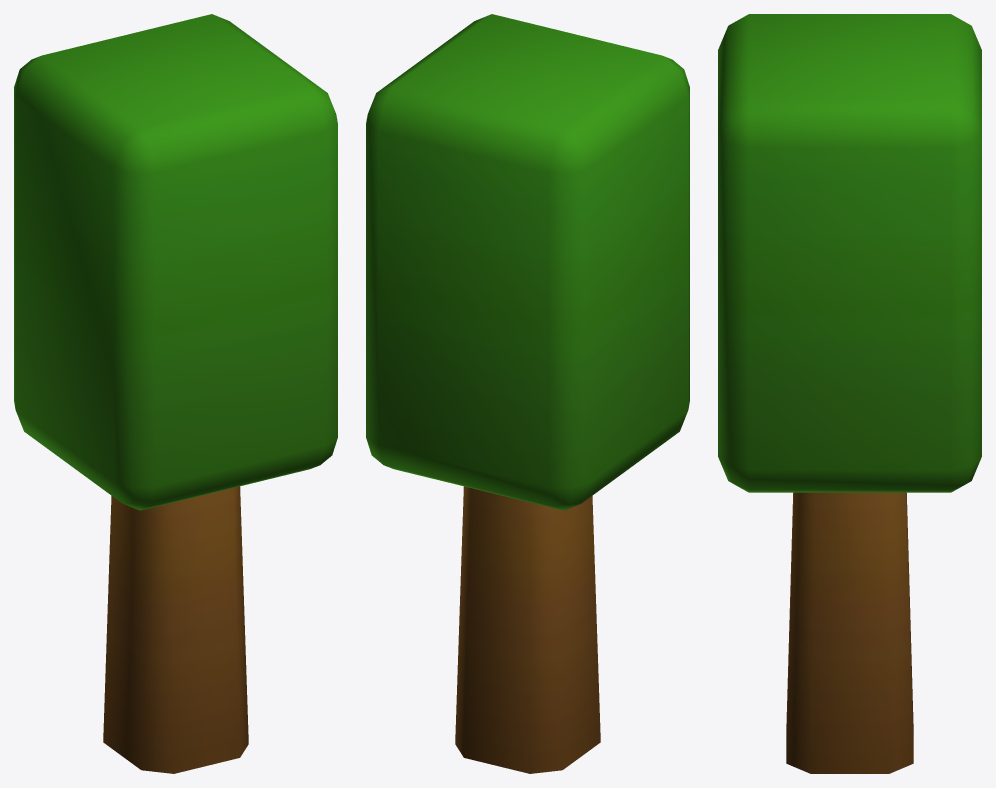
File: Tree_C_3_.fbx
The picture shows the model from 3 angles, left to right: view 1: azimuth 30°, elevation 25°; view 2: azimuth 150°, elevation 25°; view 3: azimuth 270°, elevation 25°; orthographic projection. The views are drawn at different scales.
Parts seen in each view (by area): view 1: Tree_C_3; view 2: Tree_C_3; view 3: Tree_C_3.
Boxes of the visible parts, left/top/right/bottom form: Tree_C_3: left=14, top=14, right=337, bottom=773; Tree_C_3: left=366, top=14, right=689, bottom=773; Tree_C_3: left=718, top=14, right=981, bottom=773.
Size of the model in its own units: 121 by 348 by 121.
